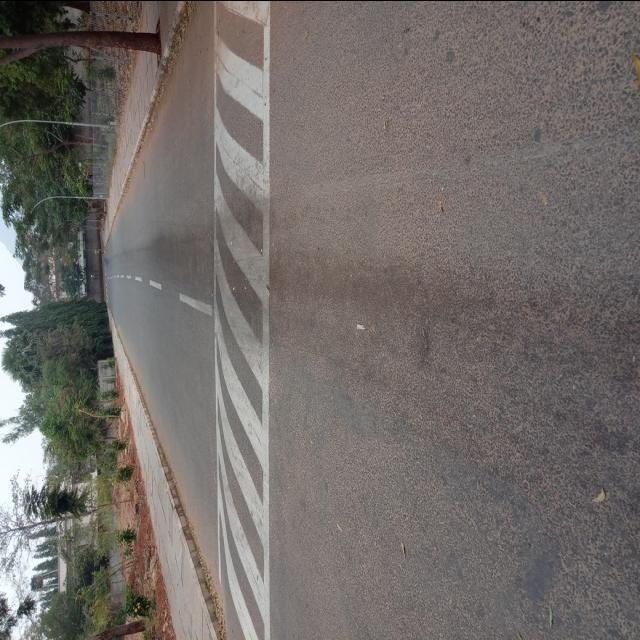speedbreaker: (210, 0, 278, 634)
